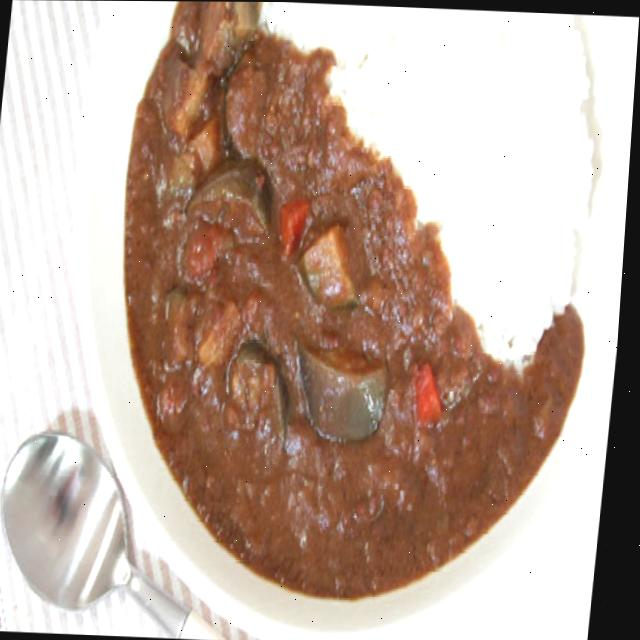牛肉菜式: (31, 0, 640, 640)
